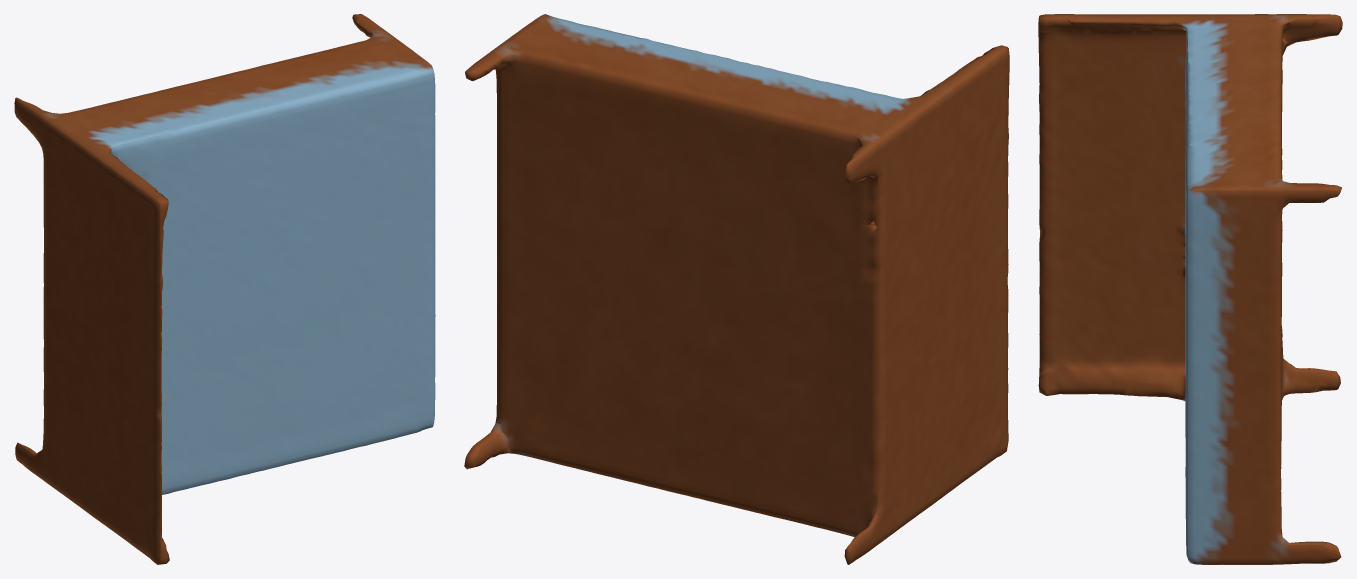
File: a sittable bed.obj
The picture shows the model from 3 angles, left to right: view 1: azimuth 30°, elevation 25°; view 2: azimuth 150°, elevation 25°; view 3: azimuth 270°, elevation 25°; orthographic projection. The views are drawn at different scales.
Bounding box in the file's own units: 1 × 1 × 0.7308.
